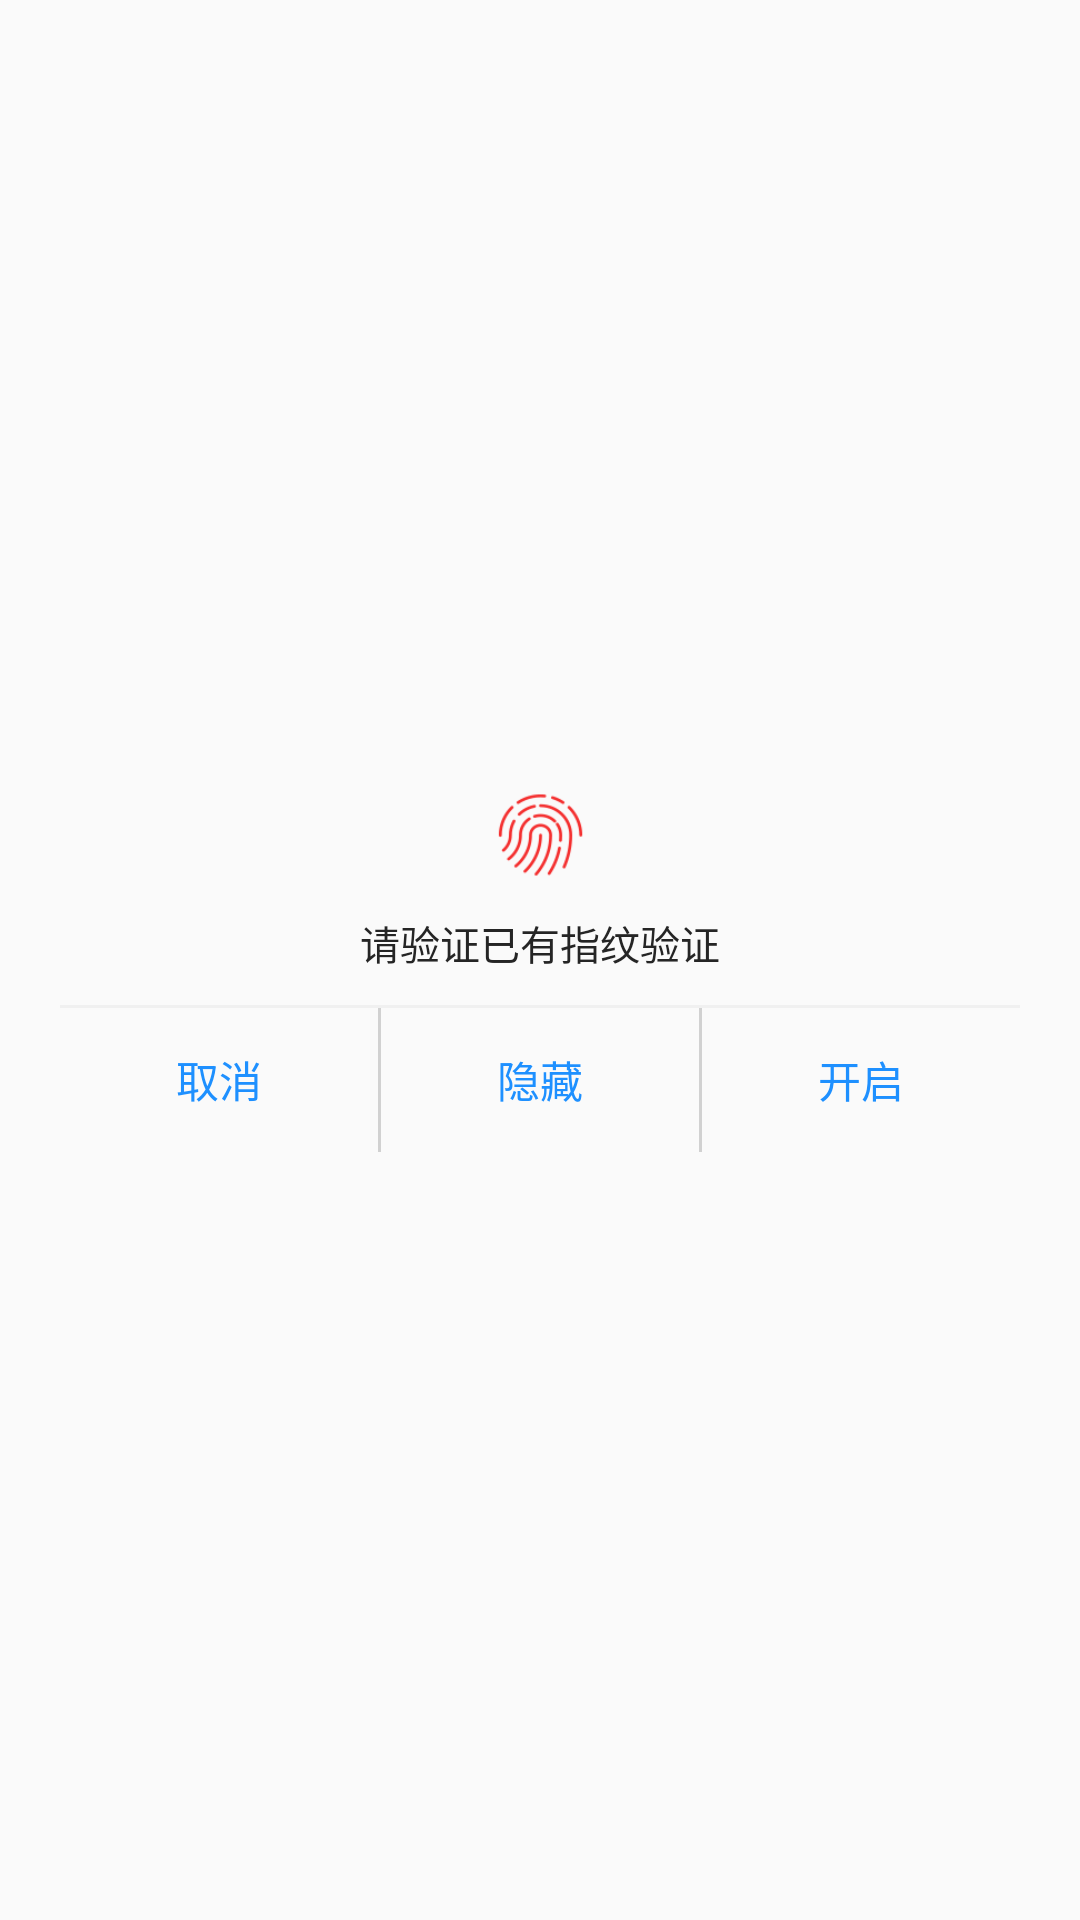

Locate icon controls on the screen. Image size 1080w x 1920h, boxes as (x1, y1, x2, y2).
zhiwen: (498, 794, 583, 876)
